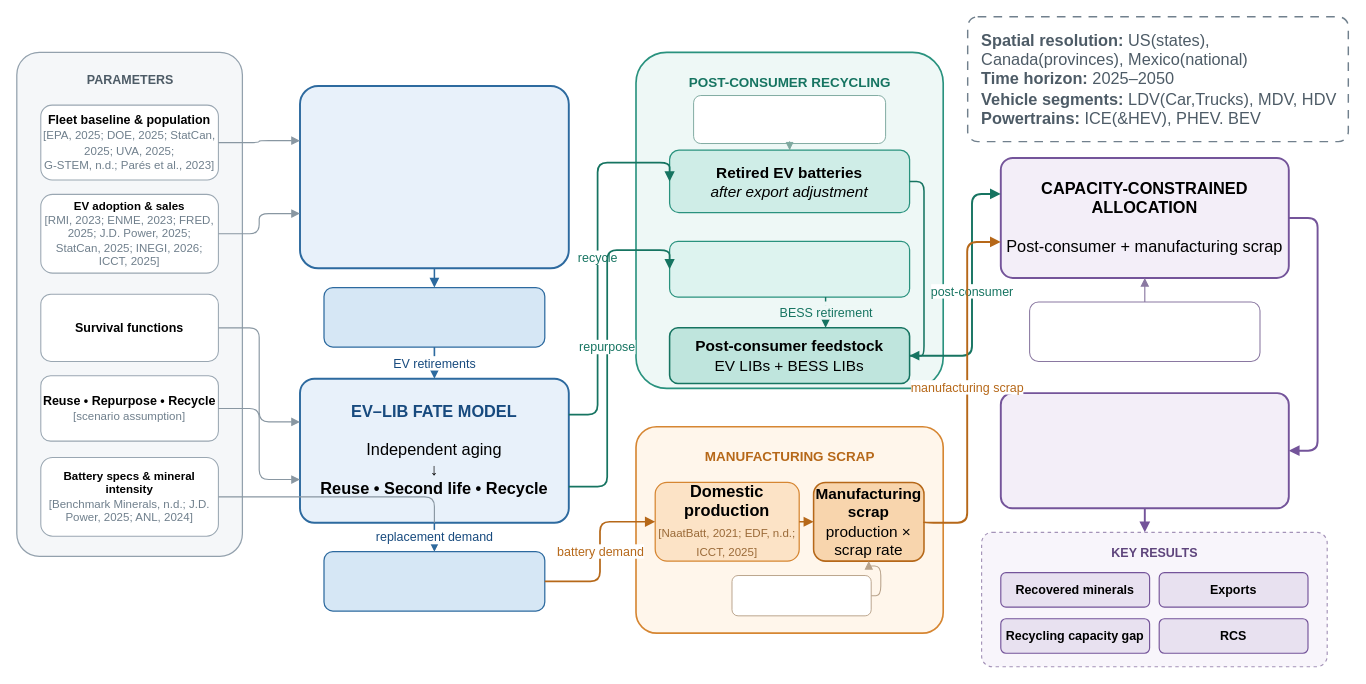
The diagram is 1366 pixels wide and 684 high, and some of its shapes have lost their labels. Each missing label, with the box of its shape:
Export rate [U.S. Commerce, 2025; Parés et al., 2023]: (693, 95, 886, 144)
FLEET TURNOVER Baseline stock ↓ Annual aging & retirement ↓ New ICE & EV sales: (299, 84, 569, 269)
MINERAL RECOVERY Mineral intensity × recovery rates [EverBatt, 2019; EU, 2023]: (999, 392, 1289, 509)
Projected LIB demand new EVs + replacements: (323, 550, 545, 611)
Recycling capacity [NaatBatt, 2021; EDF, n.d.; ICCT, 2025]: (1029, 301, 1260, 362)
Scrap rate [BatPaC/ANL, 2024]: (731, 575, 871, 616)
Second-life BESS repurposed LIBs: (669, 240, 910, 297)
Stocks • Sales • Retirements geography × segment × year: (323, 286, 545, 347)
